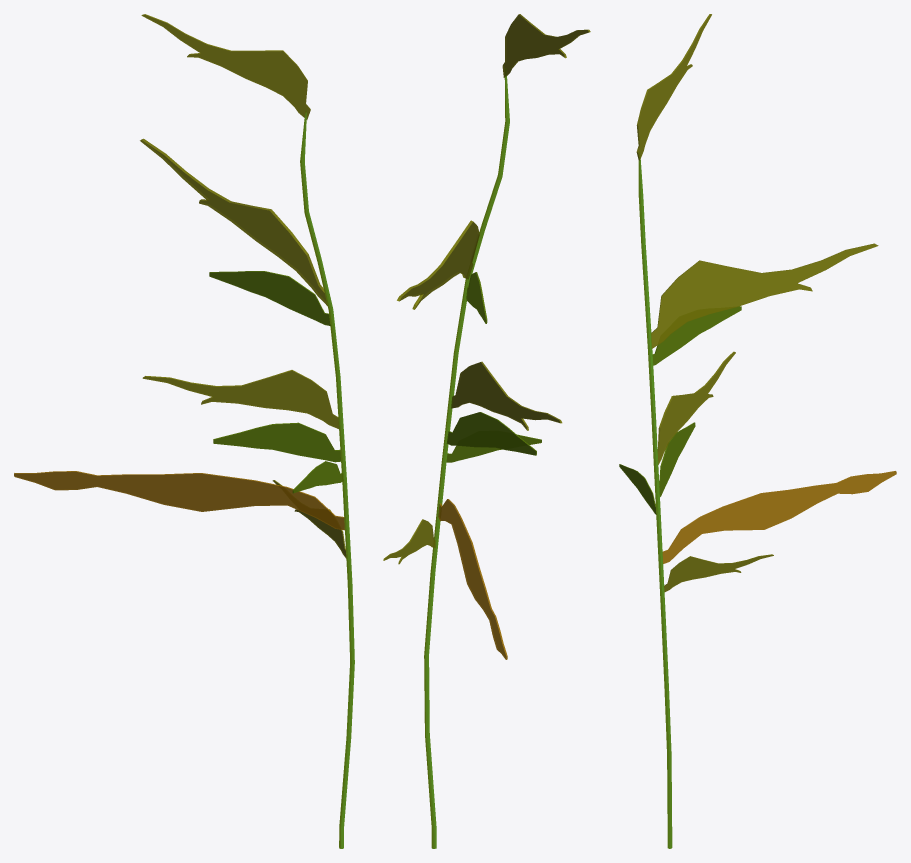
Rendered from final_flora_phyl_b.fbx.
3 views of the same model, side by side, from view 1: azimuth 30°, elevation 25°; view 2: azimuth 150°, elevation 25°; view 3: azimuth 270°, elevation 25° (orthographic). The views are drawn at different scales.
Visible parts, largest first — view 1: pCube29; view 2: pCube29; view 3: pCube29.
Boxes of the visible parts, bbox=[...] form: pCube29: bbox=[14, 14, 354, 848]; pCube29: bbox=[383, 14, 590, 848]; pCube29: bbox=[619, 14, 896, 848].
Size of the model in its own units: 7 by 27.21 by 9.01.
